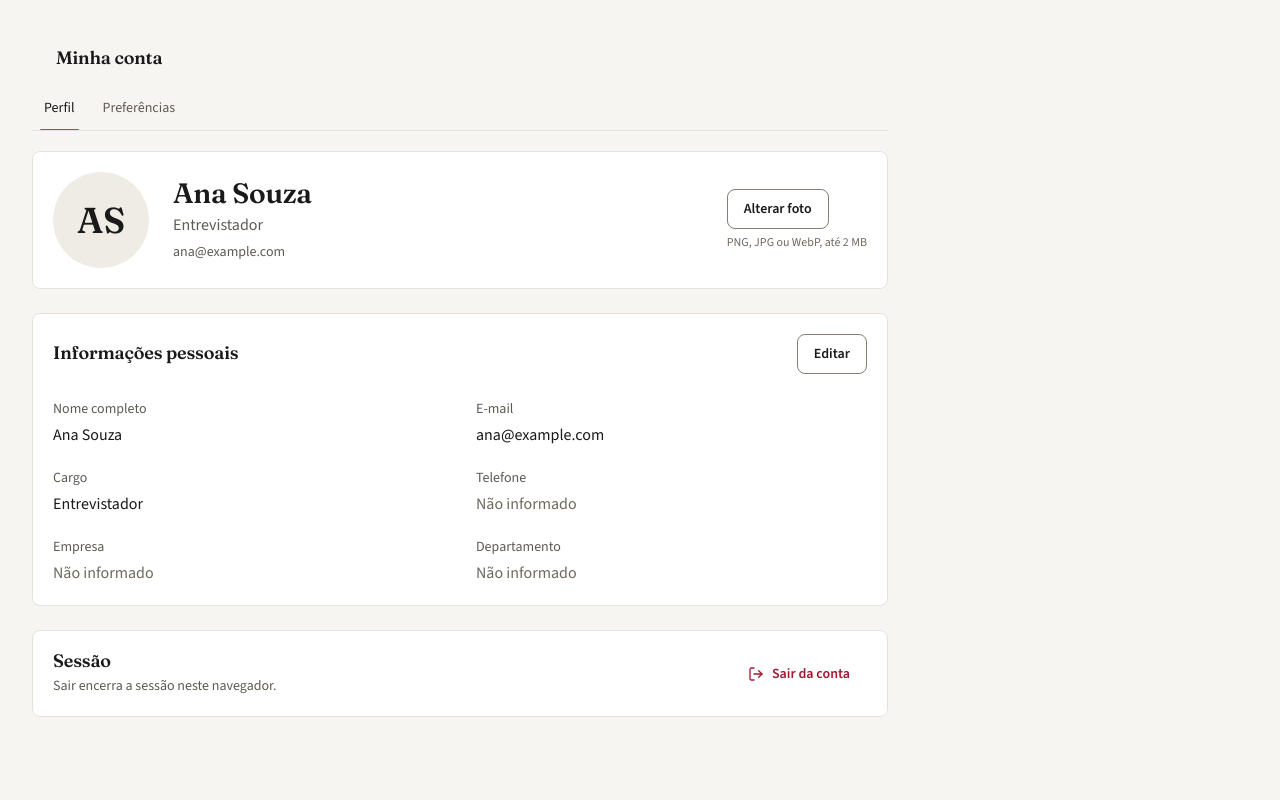
Test: abre no perfil e troca para preferências pela aba, guardando na URL
This screenshot has width=1280, height=800.
Expected: the heading "Minha conta" is shown, [56,48,162,69]
Expected: the heading "Informações pessoais" is shown, [53,343,238,364]
Click the tab "Preferências": (139, 107) [90,85,187,130]
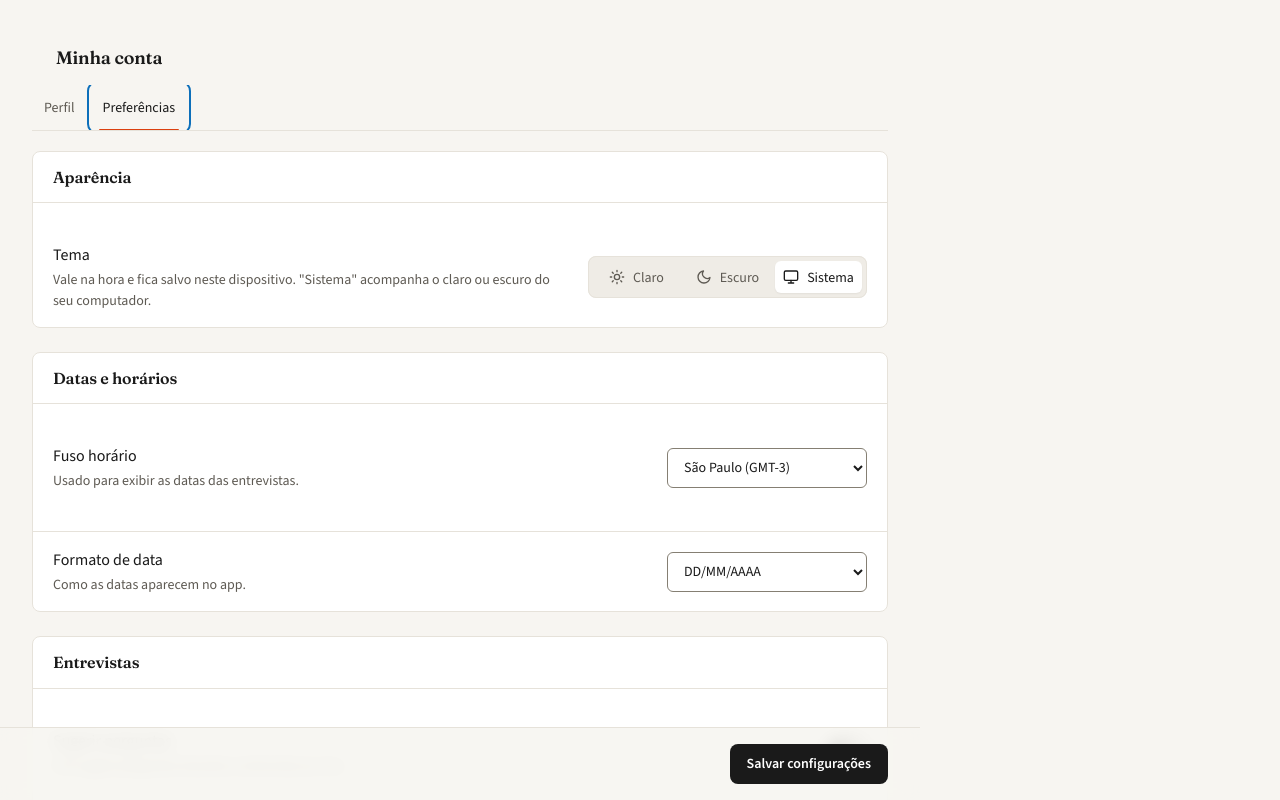
Expected: the element "tema" is shown, [588,256,867,298]
